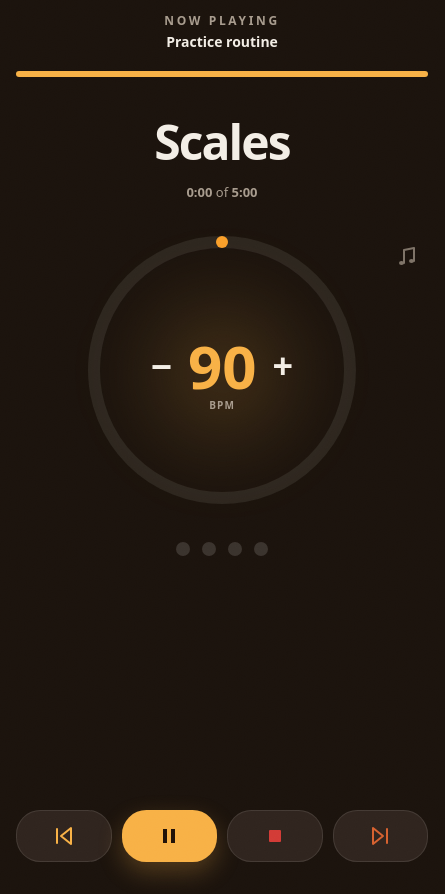
Test case: SessionPlayer › changes Tempo first at one second and repeats every 250ms for a held pointer
The width and height of the screenshot is (445, 894).
Press the mouse on the button named "Increase tempo" at coordinates (283, 366), box 260,336 -> 305,396
Wait 1500 ms
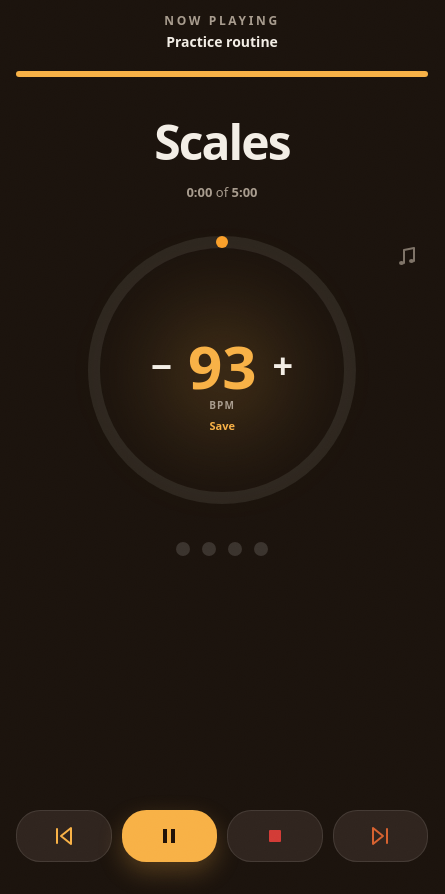
Check: the text "92" is shown, box 188,322 -> 256,410
Check: the text "93" is shown, box 188,325 -> 256,407
